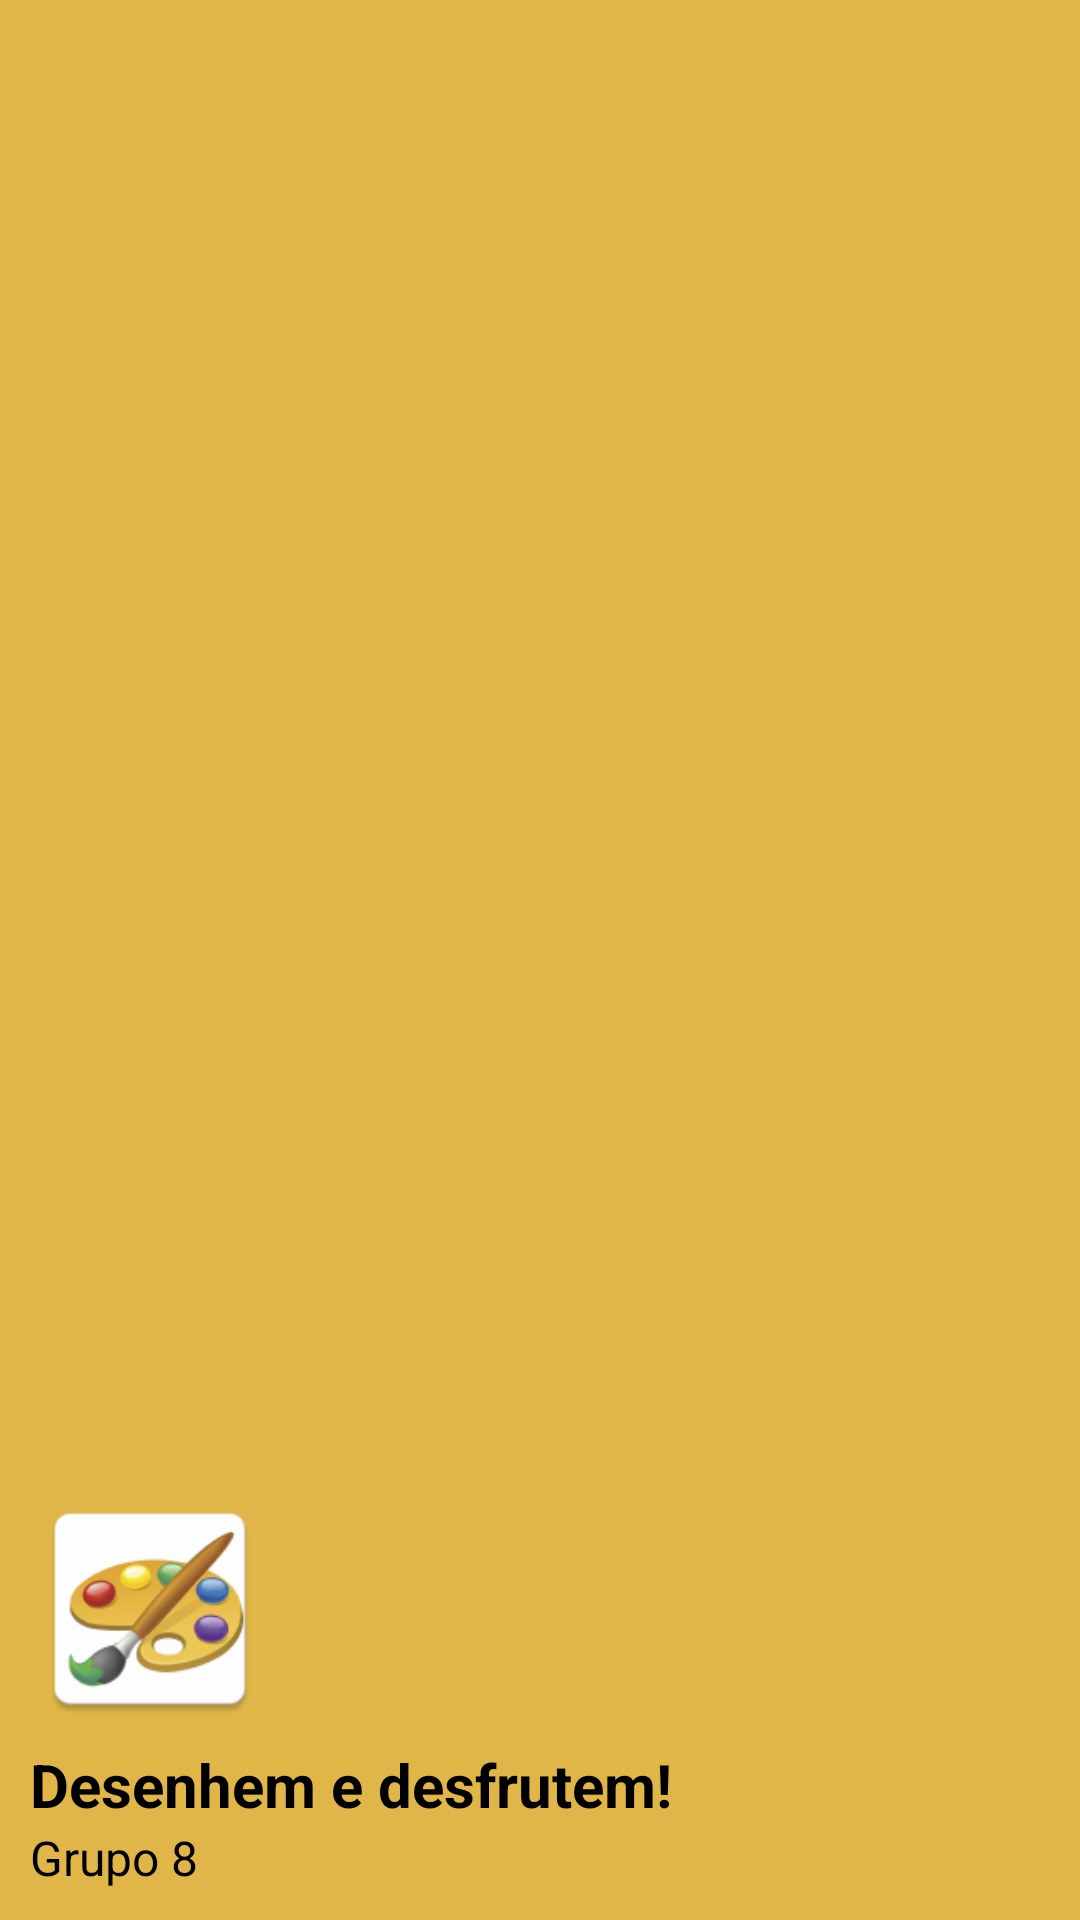

Icon click points for this 1080 x 1920 phone screenshot, format point (x, y):
paint: point (150, 1611)
